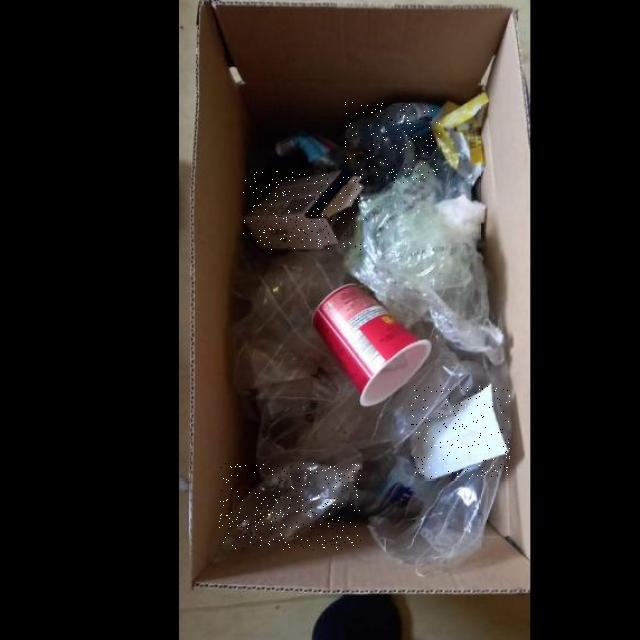paper: (243, 171, 364, 250), (411, 384, 510, 479)
plastic: (220, 463, 361, 550), (346, 102, 440, 183)
